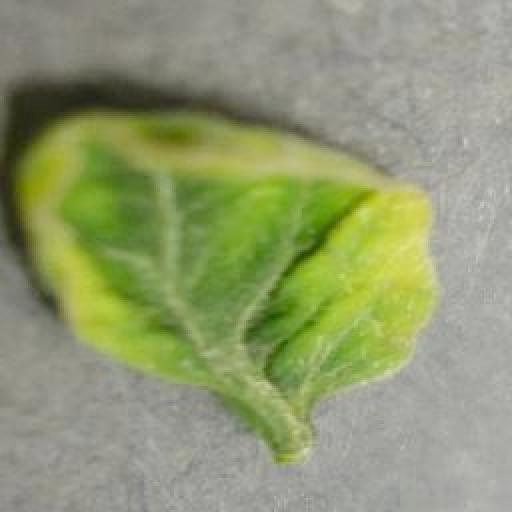disease_tomato: (18, 106, 440, 396)
